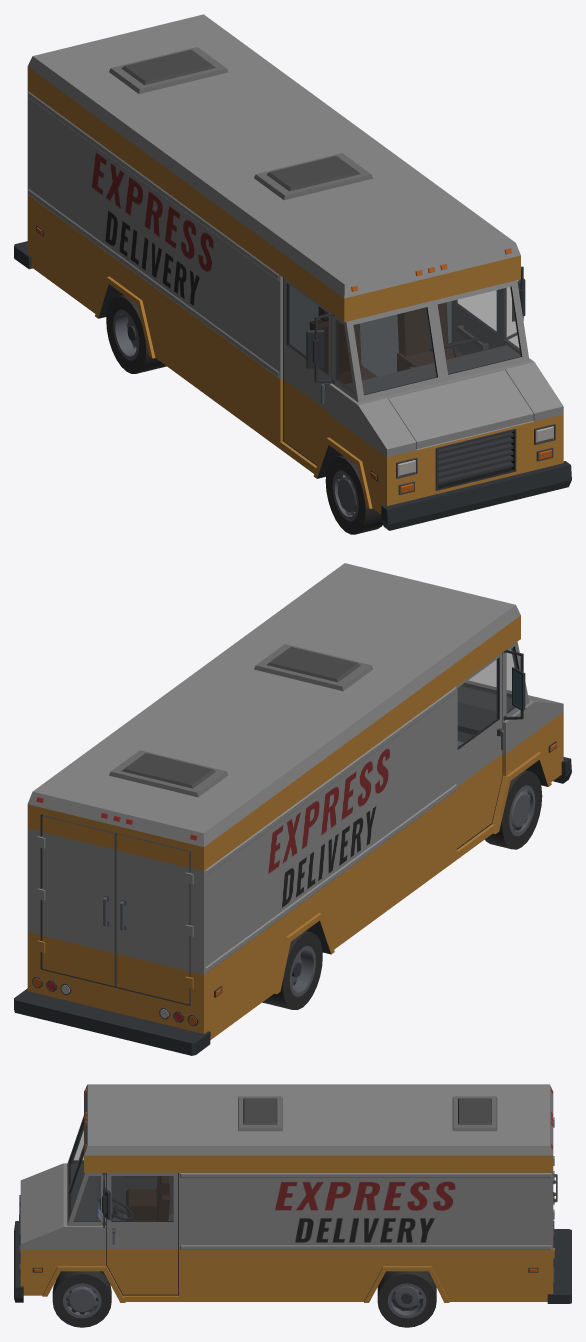
The model's file is stepvan_delivery.glb.
3 views of the same model, one above another, from view 1: azimuth 30°, elevation 25°; view 2: azimuth 150°, elevation 25°; view 3: azimuth 270°, elevation 25° (orthographic). The views are drawn at different scales.
Parts seen in each view (by area): view 1: stepvan_cargo_body, windows.001, interior.003, door_right, wheel_right_front, wheel_right_back, door_left, window_door_right, window_door_left; view 2: stepvan_cargo_body, door_back_left, door_back_right, door_right, wheel_right_back, wheel_right_front, window_door_right, interior.003, windows.001; view 3: stepvan_cargo_body, door_left, interior.003, wheel_left_back, window_door_left, wheel_left_front, windows.001, door_right.
Boxes of the visible parts, bbox=[...] form: stepvan_cargo_body: bbox=[14, 14, 571, 530]; windows.001: bbox=[337, 287, 520, 394]; interior.003: bbox=[309, 302, 520, 394]; door_right: bbox=[283, 278, 331, 464]; wheel_right_front: bbox=[325, 455, 382, 534]; wheel_right_back: bbox=[106, 294, 166, 373]; door_left: bbox=[451, 289, 499, 355]; window_door_right: bbox=[288, 284, 328, 373]; window_door_left: bbox=[456, 291, 495, 331]; stepvan_cargo_body: bbox=[14, 563, 571, 1055]; door_back_left: bbox=[42, 815, 116, 986]; door_back_right: bbox=[116, 833, 190, 1004]; door_right: bbox=[457, 653, 504, 848]; wheel_right_back: bbox=[262, 931, 322, 1009]; wheel_right_front: bbox=[485, 770, 542, 849]; window_door_right: bbox=[458, 659, 497, 747]; interior.003: bbox=[457, 686, 513, 734]; windows.001: bbox=[464, 647, 517, 711]; stepvan_cargo_body: bbox=[14, 1084, 571, 1303]; door_left: bbox=[107, 1173, 178, 1294]; interior.003: bbox=[71, 1163, 173, 1220]; wheel_left_back: bbox=[377, 1271, 436, 1327]; window_door_left: bbox=[111, 1176, 173, 1221]; wheel_left_front: bbox=[52, 1271, 111, 1327]; windows.001: bbox=[70, 1123, 100, 1221]; door_right: bbox=[111, 1176, 173, 1214].
Size of the model in its own units: 2.45 by 2.7 by 7.36.
2 materials, 2 textured.
